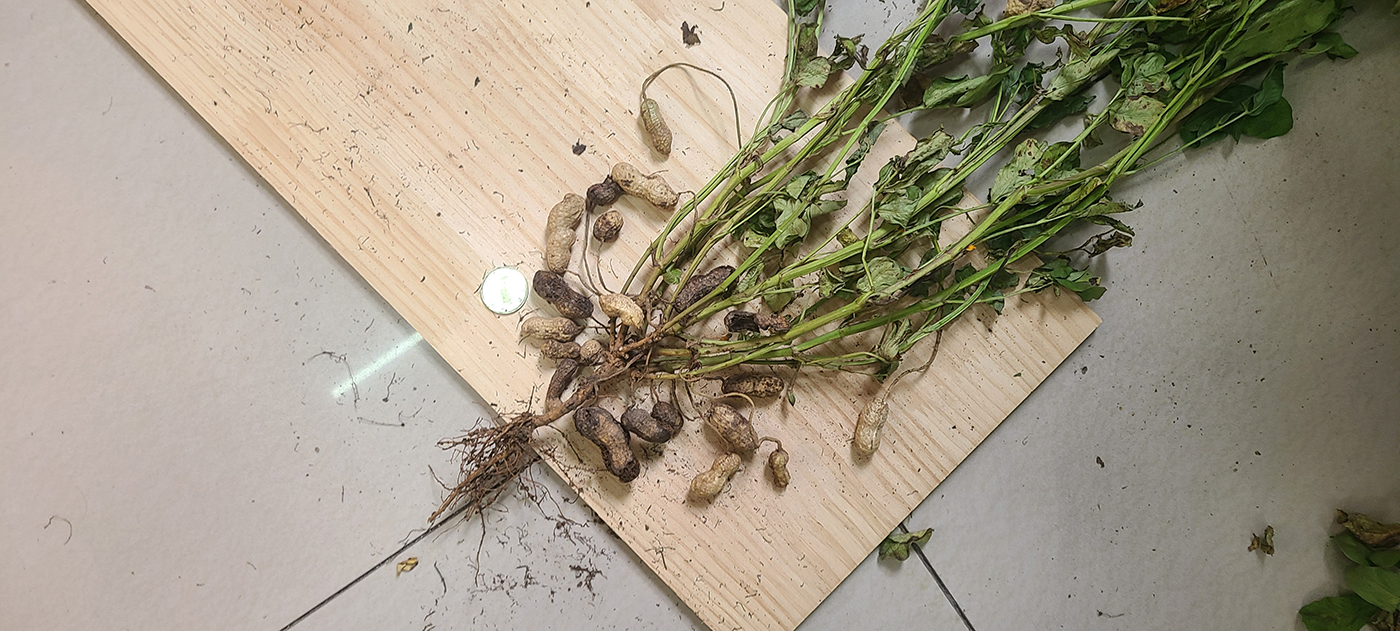h: (547, 192, 585, 276), (612, 163, 677, 209), (708, 405, 758, 456), (688, 454, 739, 503), (599, 293, 646, 337), (855, 398, 885, 464), (640, 100, 673, 157), (547, 359, 574, 414), (522, 319, 581, 341), (720, 377, 784, 397), (769, 449, 792, 491), (594, 212, 624, 240), (541, 341, 581, 360), (581, 340, 606, 366)
l: (573, 407, 639, 483), (533, 271, 591, 320), (676, 267, 739, 307), (622, 406, 669, 445), (725, 313, 793, 334), (586, 177, 623, 207), (653, 402, 684, 435)
